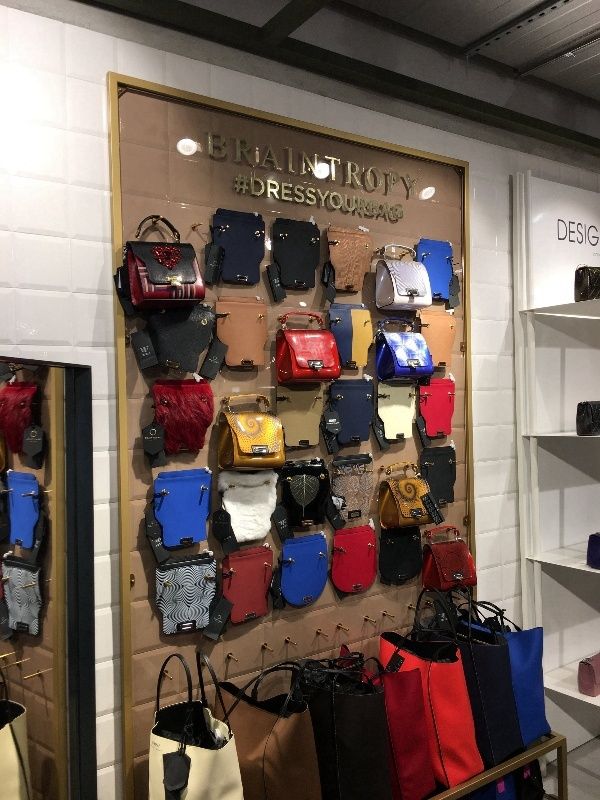text: (209, 130, 224, 198), (225, 130, 240, 198), (241, 130, 256, 198), (257, 130, 272, 198), (273, 130, 288, 198), (289, 130, 304, 198), (305, 130, 320, 198), (321, 130, 336, 198), (337, 130, 352, 198), (353, 130, 368, 198), (369, 130, 384, 198), (385, 130, 400, 198), (401, 130, 416, 198), (241, 174, 256, 223), (257, 174, 272, 223), (273, 174, 288, 223), (289, 174, 304, 223), (305, 174, 320, 223), (321, 174, 336, 223), (337, 174, 352, 223), (353, 174, 368, 223), (369, 174, 384, 223), (385, 174, 400, 223), (561, 220, 576, 247), (577, 220, 592, 247), (417, 130, 420, 198), (593, 220, 599, 247), (401, 174, 404, 223), (238, 174, 240, 223), (209, 359, 224, 364), (214, 618, 224, 624), (558, 220, 560, 247), (210, 264, 224, 267), (281, 524, 288, 530), (330, 284, 336, 290), (437, 508, 448, 511), (594, 253, 600, 258), (215, 522, 224, 525), (225, 522, 228, 525)
